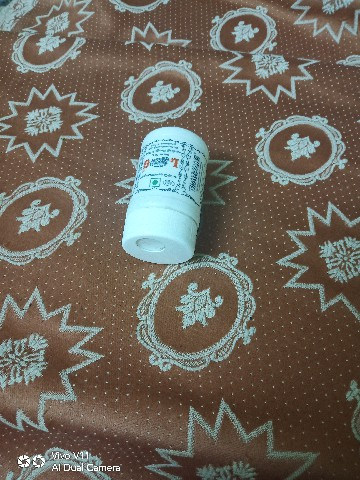lgasafoetidapowder small: (101, 112, 229, 297)
